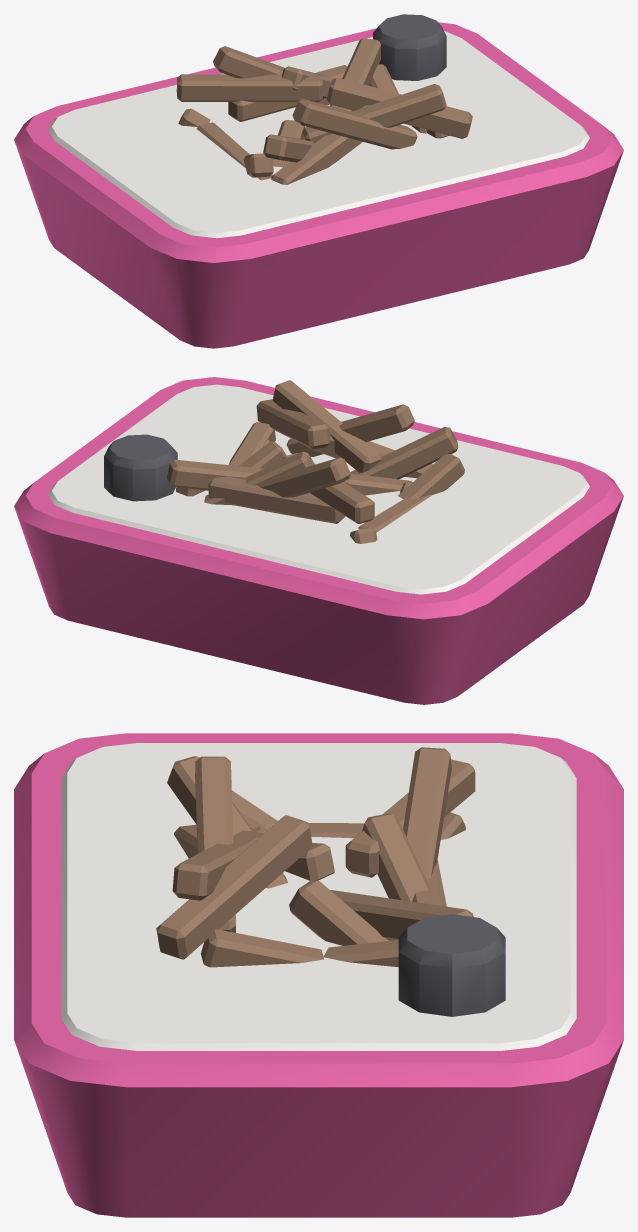
File: bowling-alley-and-pool-hall-snack-basket-13216285__33873.glb
3 views of the same model, one above another, from view 1: azimuth 30°, elevation 25°; view 2: azimuth 150°, elevation 25°; view 3: azimuth 270°, elevation 25° (orthographic). The views are drawn at different scales.
Parts seen in each view (by area): view 1: snack-basket; view 2: snack-basket; view 3: snack-basket.
Boxes of the visible parts, x1,y1,x2,y2 form: snack-basket: (14, 14, 623, 348); snack-basket: (14, 377, 623, 704); snack-basket: (14, 733, 623, 1217).
Size of the model in its own units: 0.276 by 0.1156 by 0.206.
